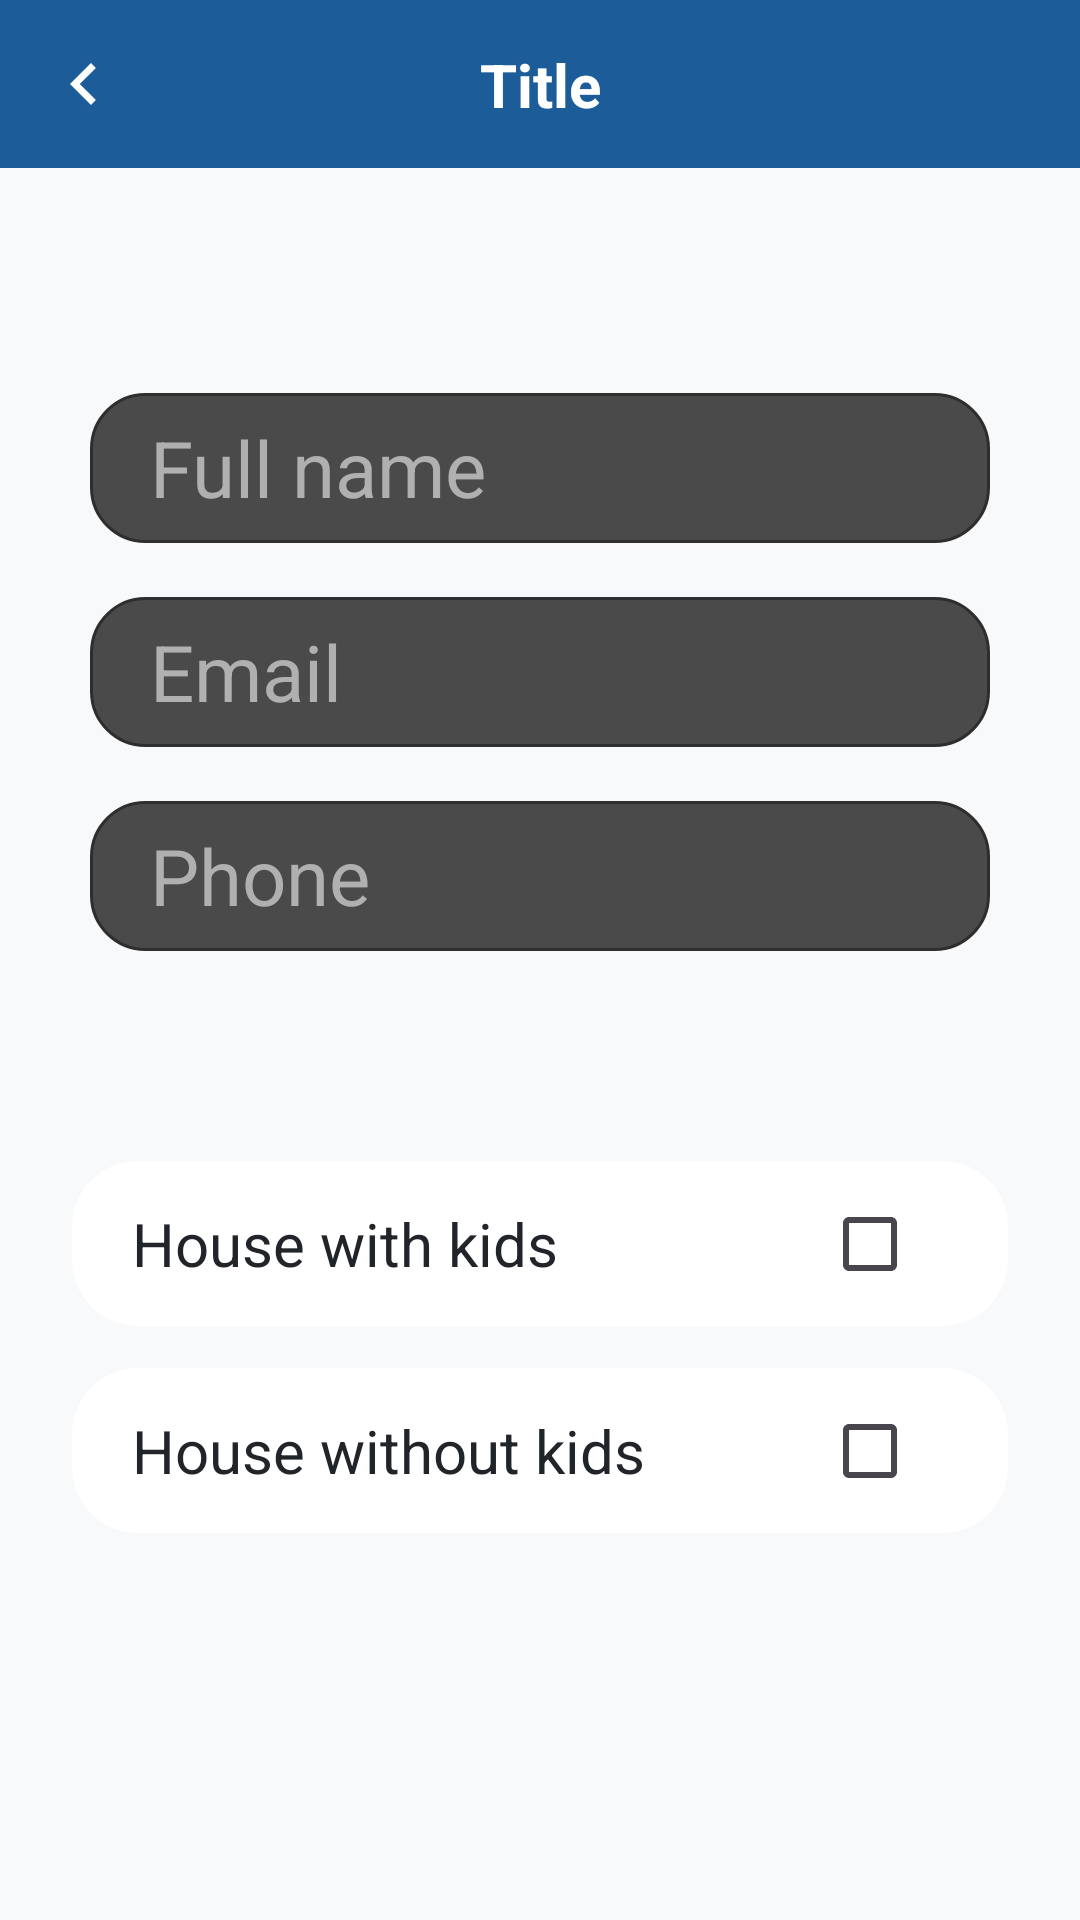

Point at icon controls on the screen. Image size 1080×1920, points as (x=x, y=y).
Back: (x=83, y=84)
